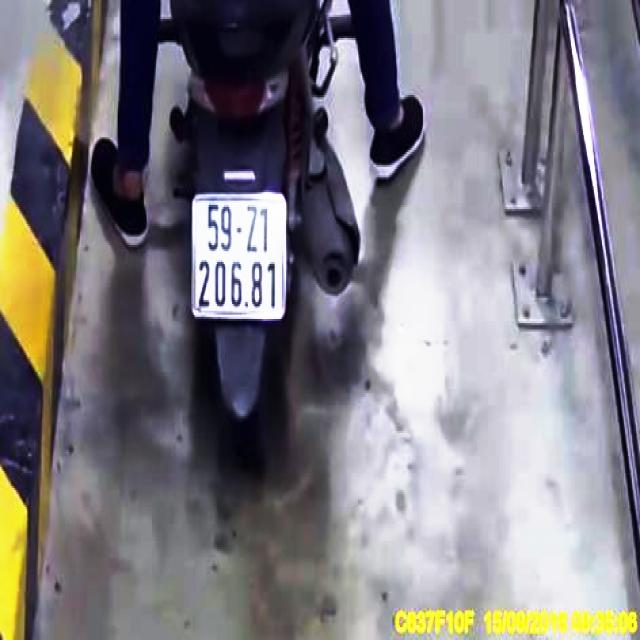license_plate: (192, 194, 286, 318)
